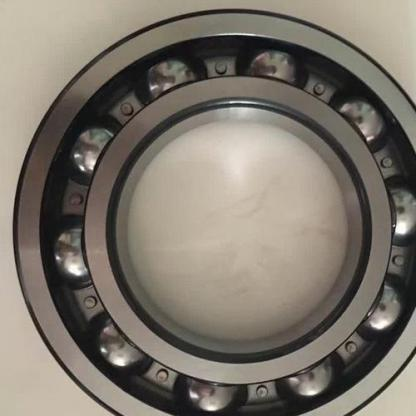FOD: (11, 3, 415, 415)
